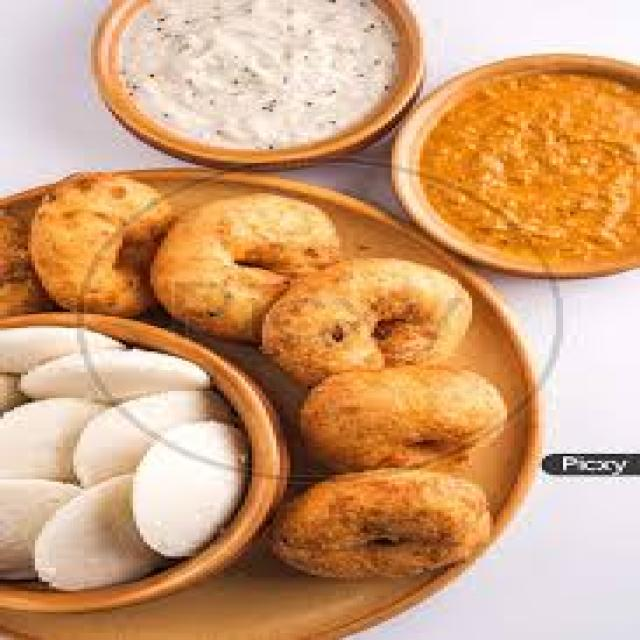IDLI: (0, 327, 252, 594)
MEDU VADA: (0, 172, 536, 585)
